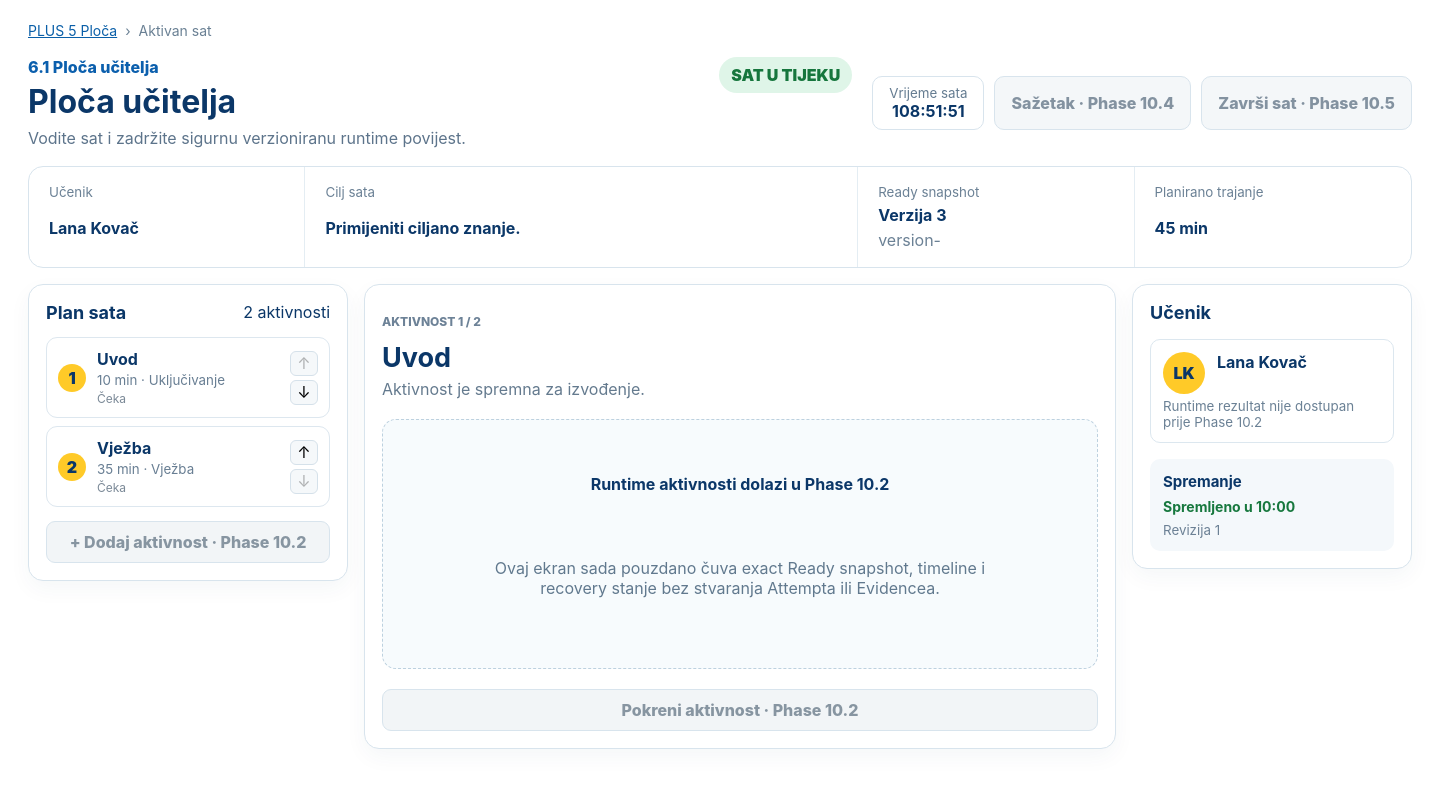
PLUS 5 Teacher Board runtime › recovers an active runtime and persists a revision-safe timeline reorder
Expected: the heading "Ploča učitelja" is shown, top-left (28, 82), bottom-right (236, 121)
Expected: the text "Ready snapshot" is shown, top-left (878, 184), bottom-right (979, 200)
Click the button named "Pomakni Vježba gore". click: (304, 452)
box: top-left (290, 440), bottom-right (318, 464)
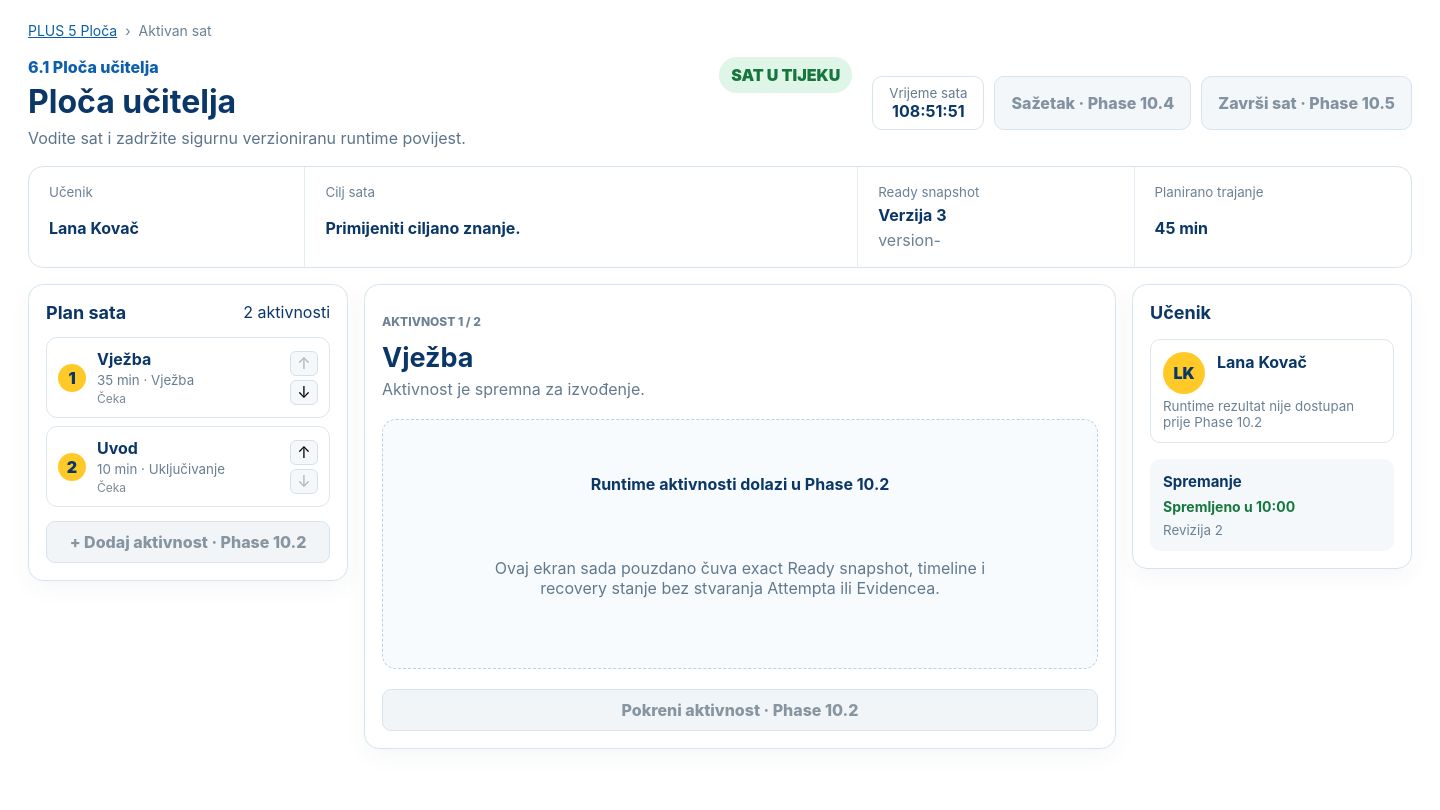
Expected: the text "Revizija 2" is shown, top-left (1163, 522), bottom-right (1223, 538)
